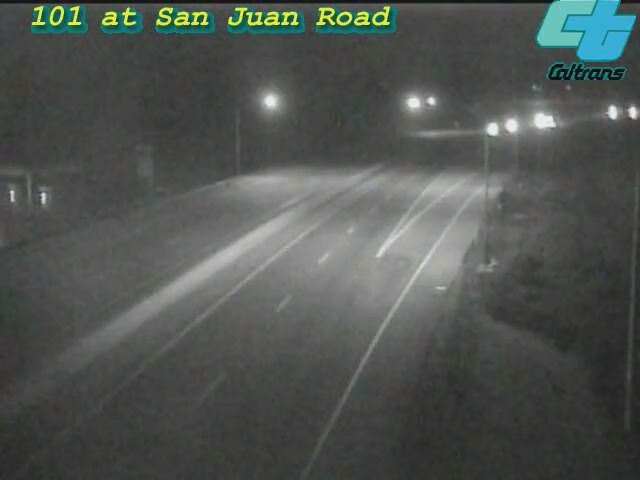vehicle: (525, 97, 575, 147), (467, 104, 517, 154), (513, 96, 563, 146), (481, 102, 531, 152), (588, 88, 638, 138), (607, 87, 640, 137)
